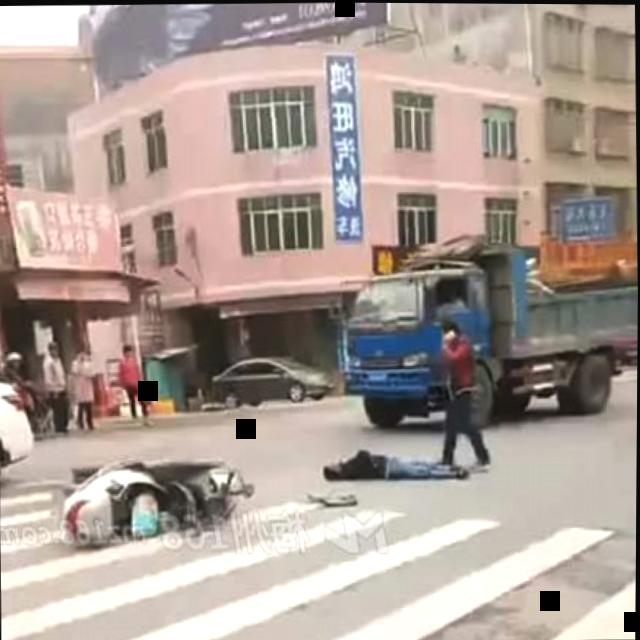Fall-Detected: (311, 431, 487, 487)
